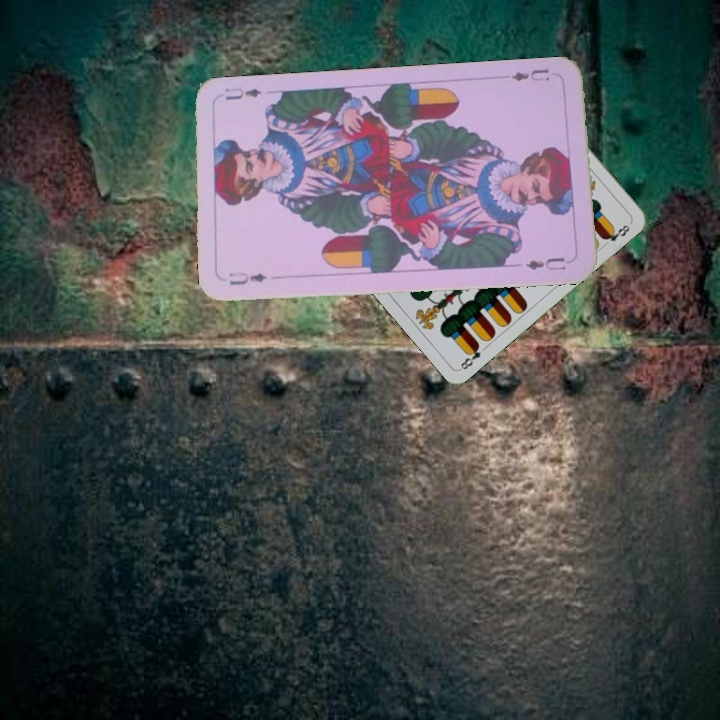E8: (457, 340, 483, 372)
EU: (225, 268, 269, 288), (507, 65, 553, 84)
